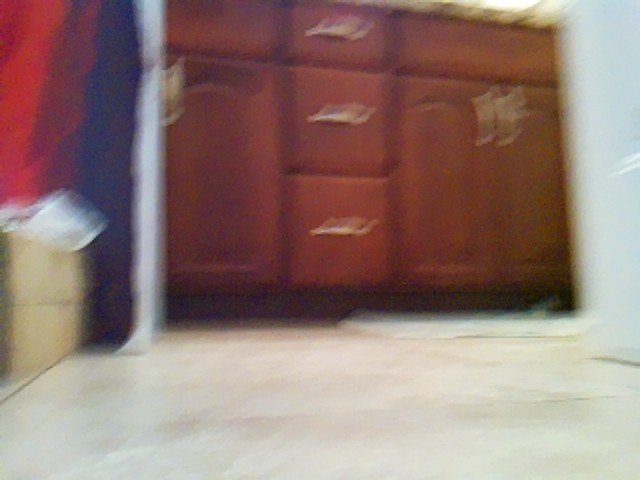Drivable Area: (73, 353, 640, 480)
Obstacle: (157, 0, 563, 296)
